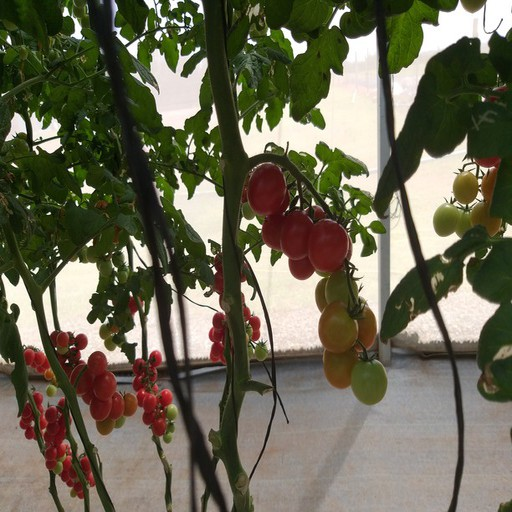mixed tomato bunch: (430, 110, 512, 247), (207, 252, 266, 367)
red tomato bunch: (243, 168, 352, 274), (42, 403, 104, 496), (70, 353, 140, 431), (132, 350, 175, 437), (20, 390, 51, 445), (18, 346, 62, 382), (51, 331, 88, 367)
